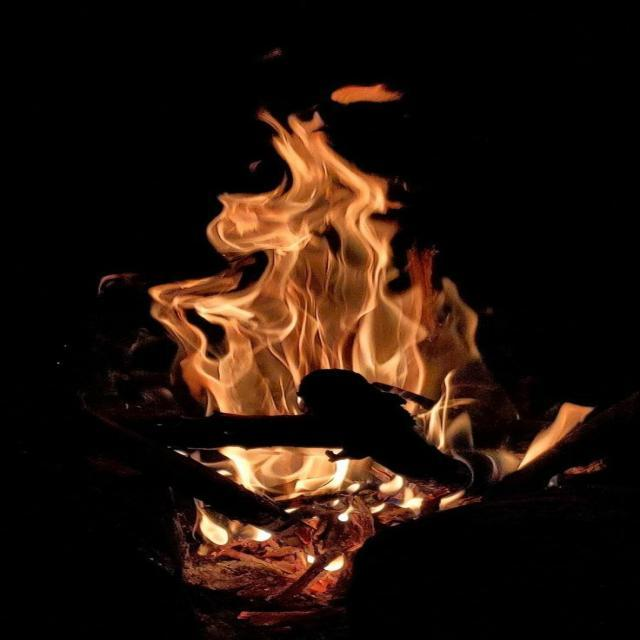Fire: (157, 83, 530, 542)
